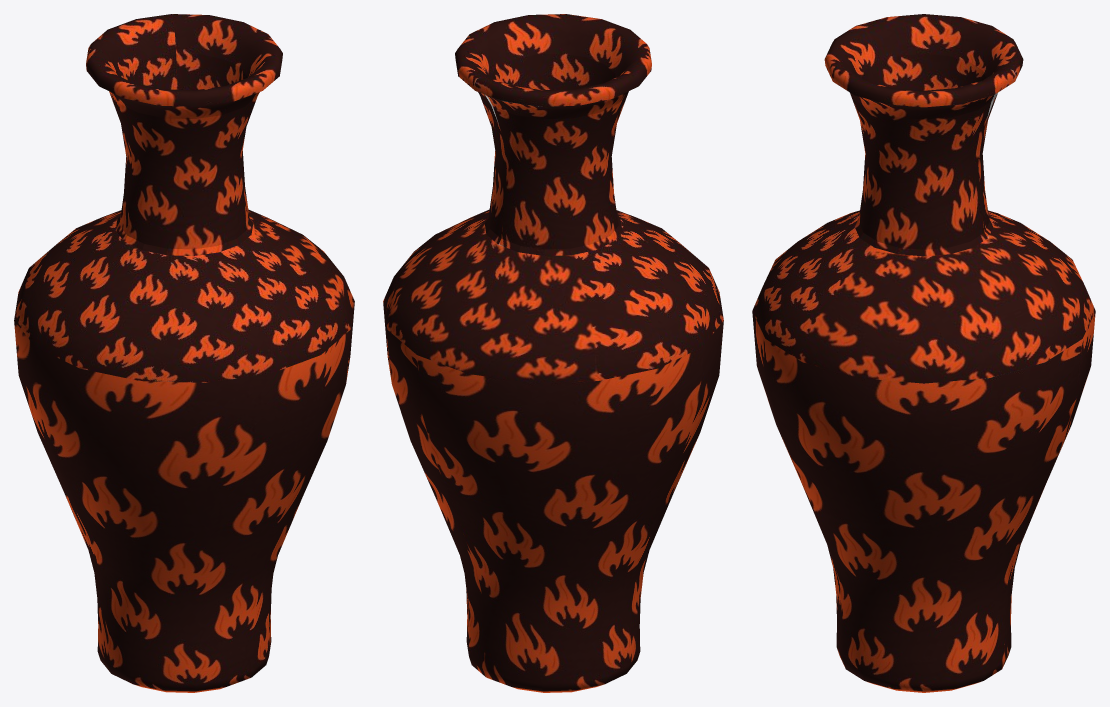
3 renders of one model, left to right at view 1: azimuth 30°, elevation 25°; view 2: azimuth 150°, elevation 25°; view 3: azimuth 270°, elevation 25°, orthographic.
Parts seen in each view (by area): view 1: jarron_02; view 2: jarron_02; view 3: jarron_02.
Part boxes in pixels (box(x1,y1,x2,y2)): jarron_02: box(14, 14, 354, 692); jarron_02: box(383, 14, 723, 692); jarron_02: box(752, 14, 1095, 692).
Bounding box in the file's own units: 11.17 × 21.86 × 11.17.
Materials: 1 (1 with a texture image).
